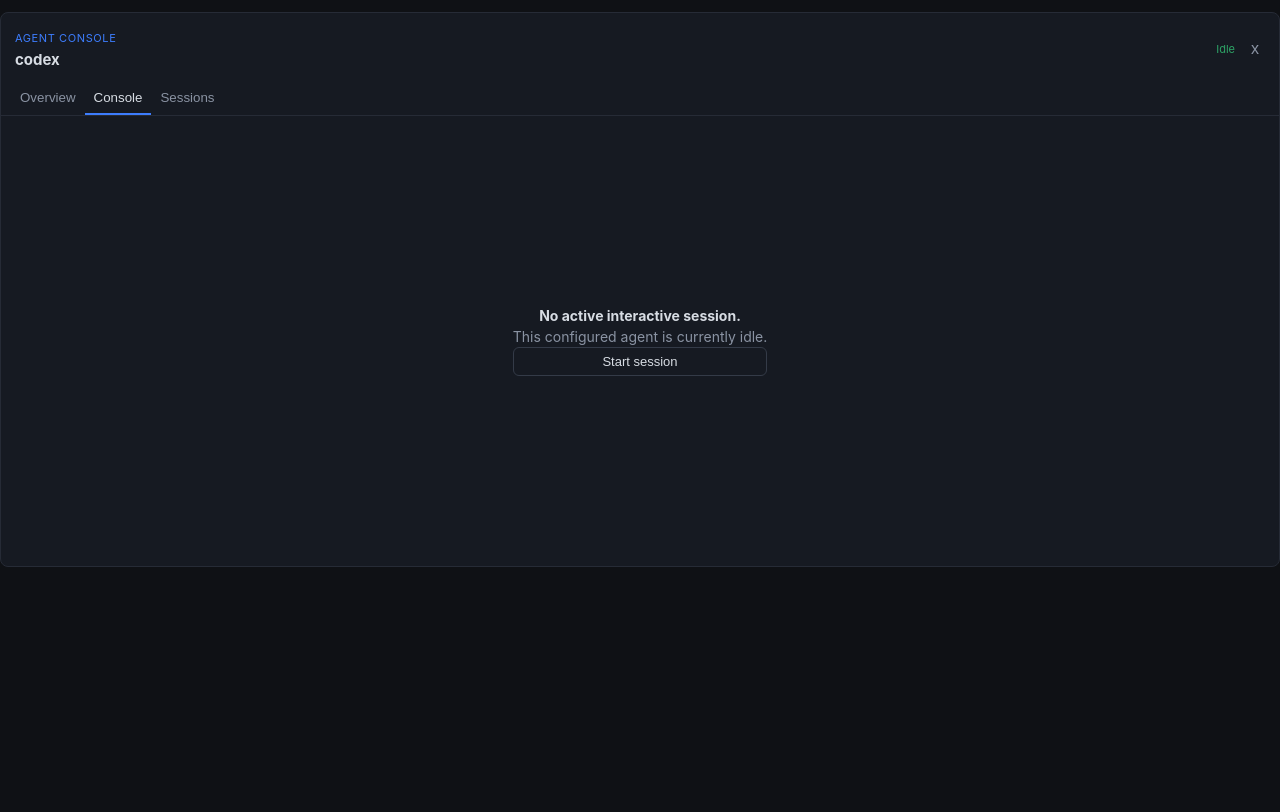
Scenario: Agent Console › shows a compact performance summary on the overview tab when history exists
The width and height of the screenshot is (1280, 812).
Step 1. Click the tab "Overview" → (48,98), box [11,82,84,114]
(page scrolled)
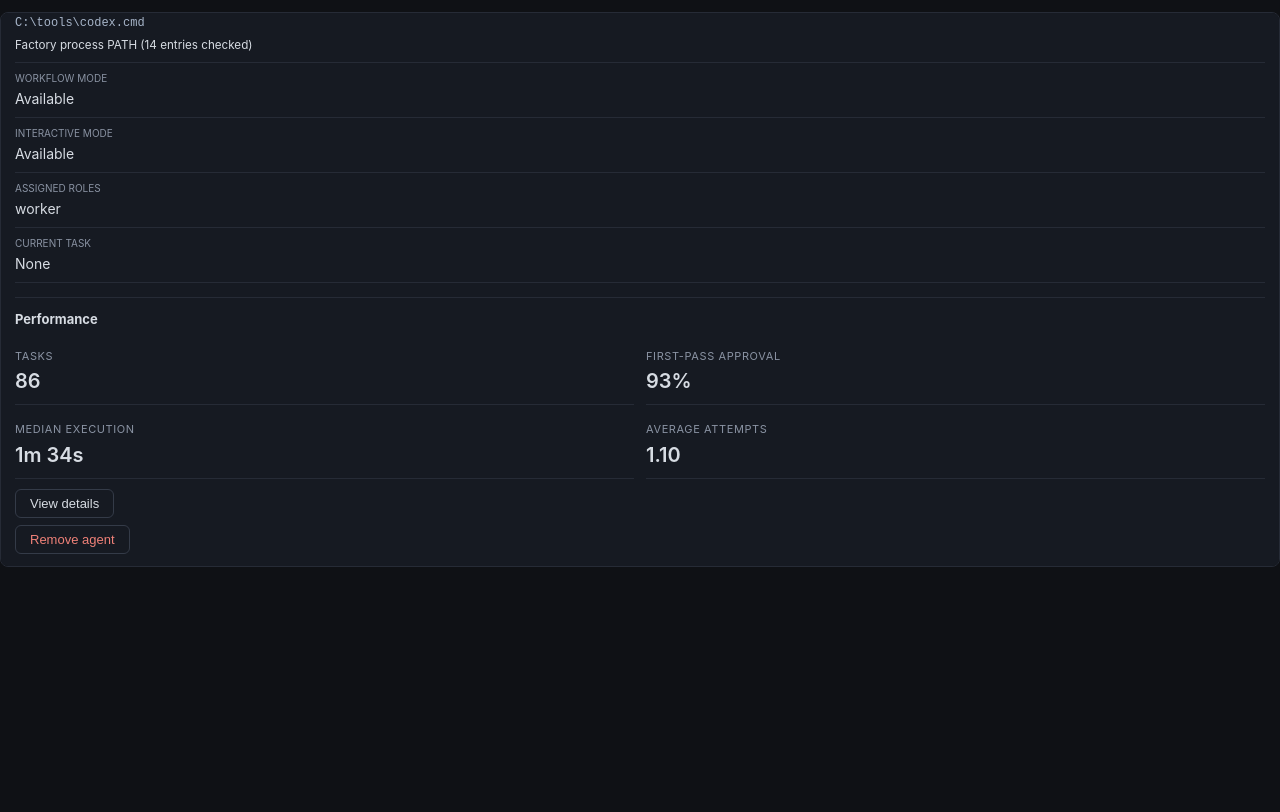
Check: the heading "Performance" is shown, box [15,311,98,327]
Check: the text "86" is shown, box [15,369,41,393]
Check: the text "93%" is shown, box [646,369,692,393]
